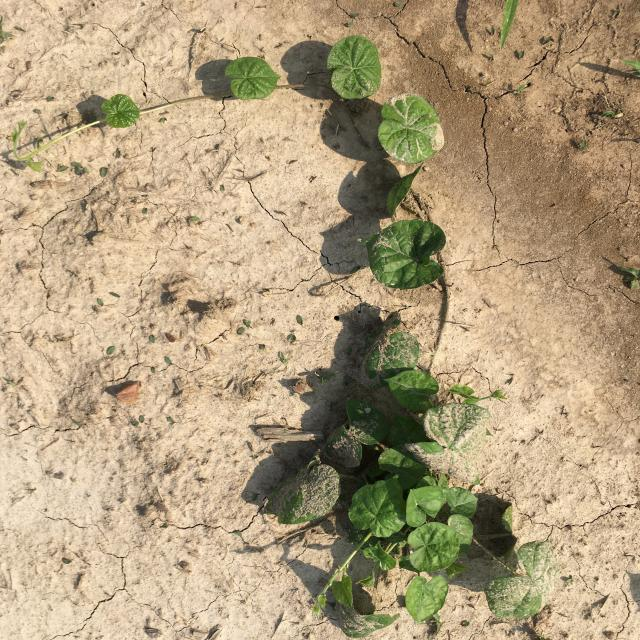MorningGlory: (11, 35, 566, 639)
